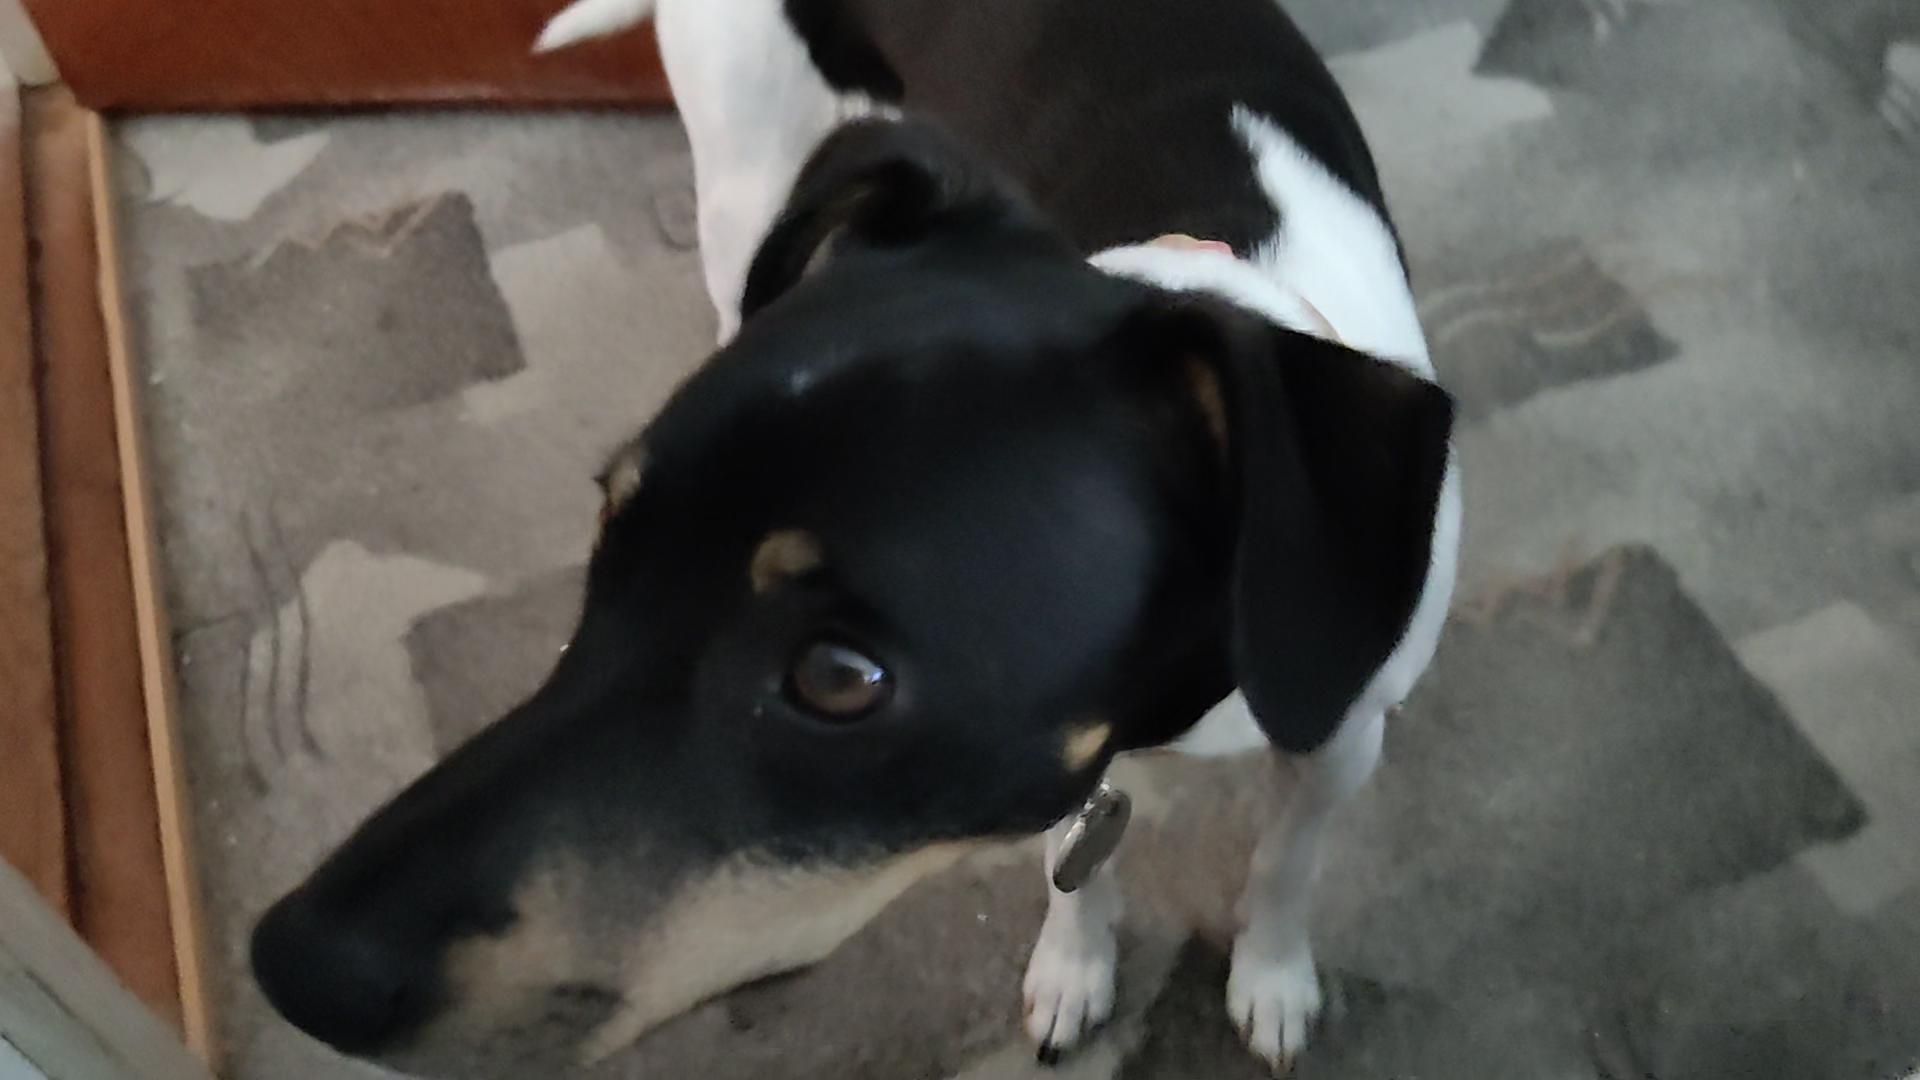Dog: (219, 0, 1487, 1079)
